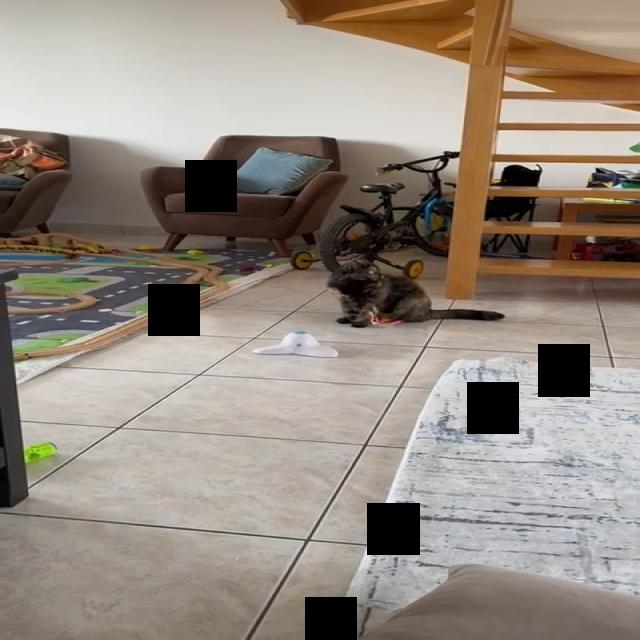authorized: (324, 259, 504, 328)
